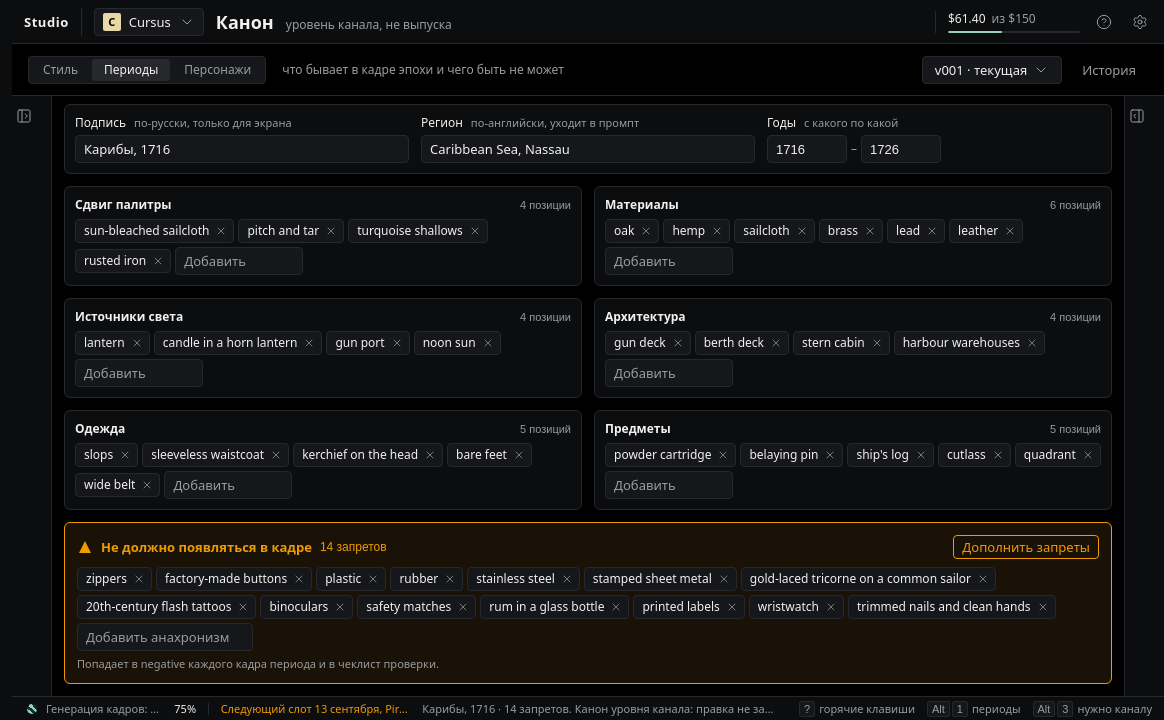
Test: слой «Периоды» › похожие запреты подсвечены: слова одной позиции входят в другую
(page scrolled)
Type "plastic buttons" into the field named "Не должно появляться в кадре: добавить анахронизм".
click(165, 637); type("plastic buttons")  # box top-left (77, 623), bottom-right (253, 651)
Then press Enter
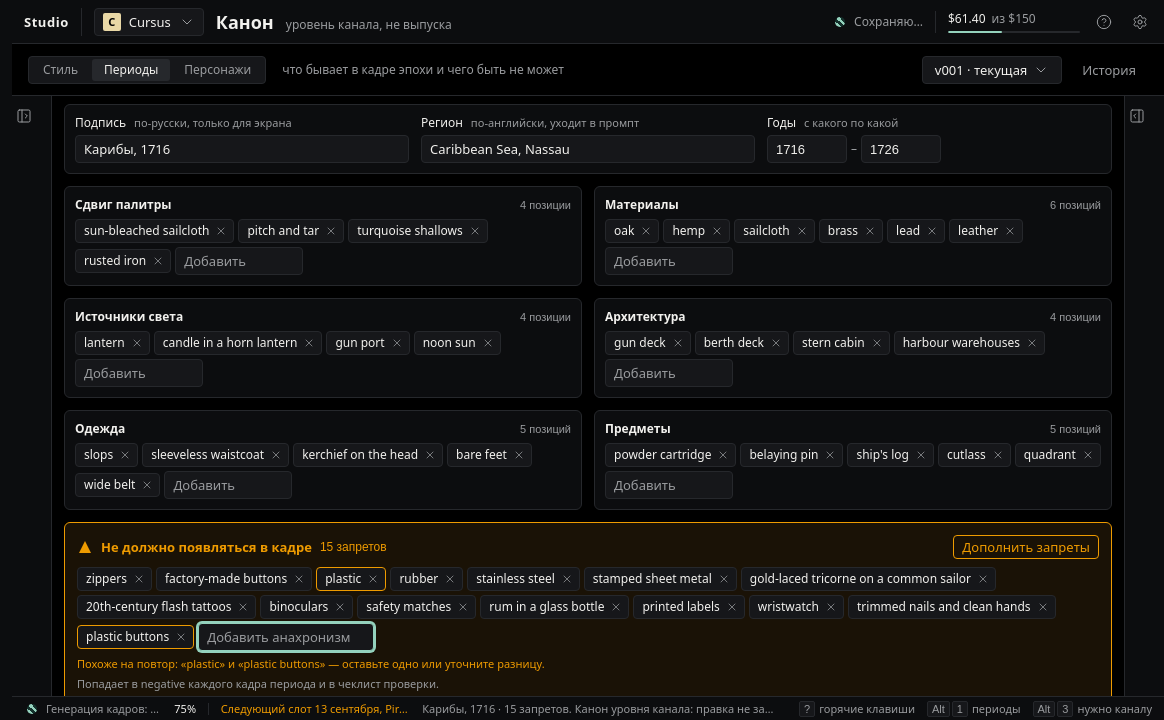
Check: the text "Похоже на повтор: «plastic» и «plastic buttons»" is shown, box top-left (77, 656), bottom-right (545, 671)
